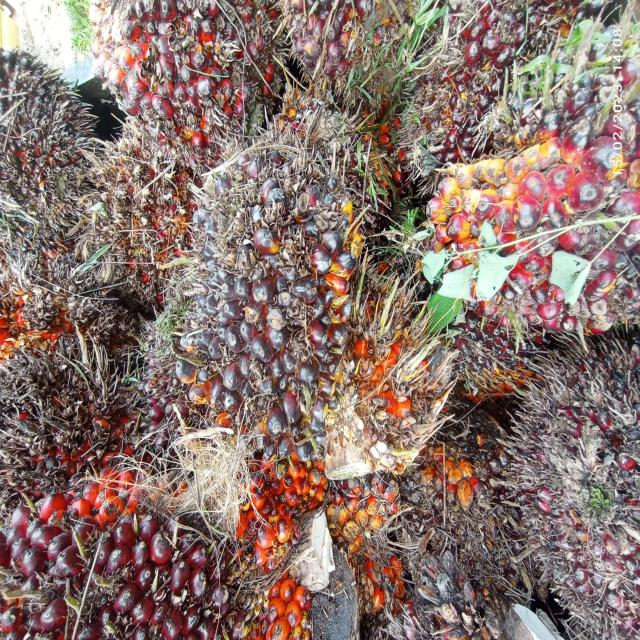fraksi 00: (165, 72, 448, 511)
fraksi 1: (431, 0, 640, 382), (2, 464, 233, 640), (87, 0, 299, 178), (512, 347, 640, 631)
fraksi 4: (235, 469, 422, 640)
